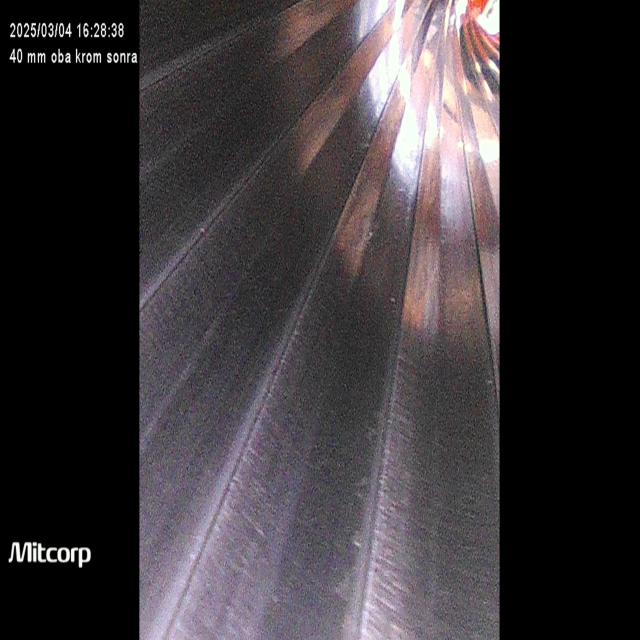hata_8.1: (321, 320, 432, 640)
